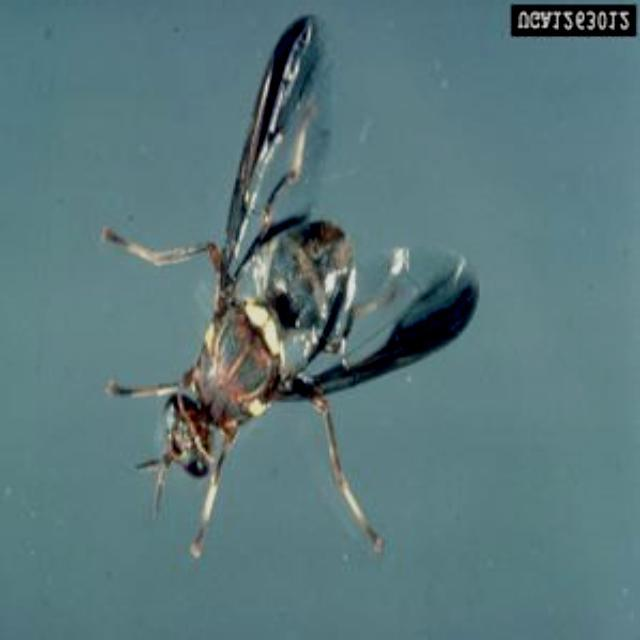melon fly: (80, 2, 508, 584)
